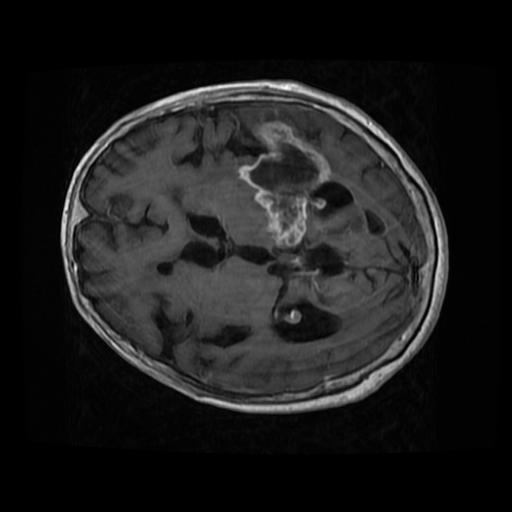glioma: (238, 121, 331, 249)
